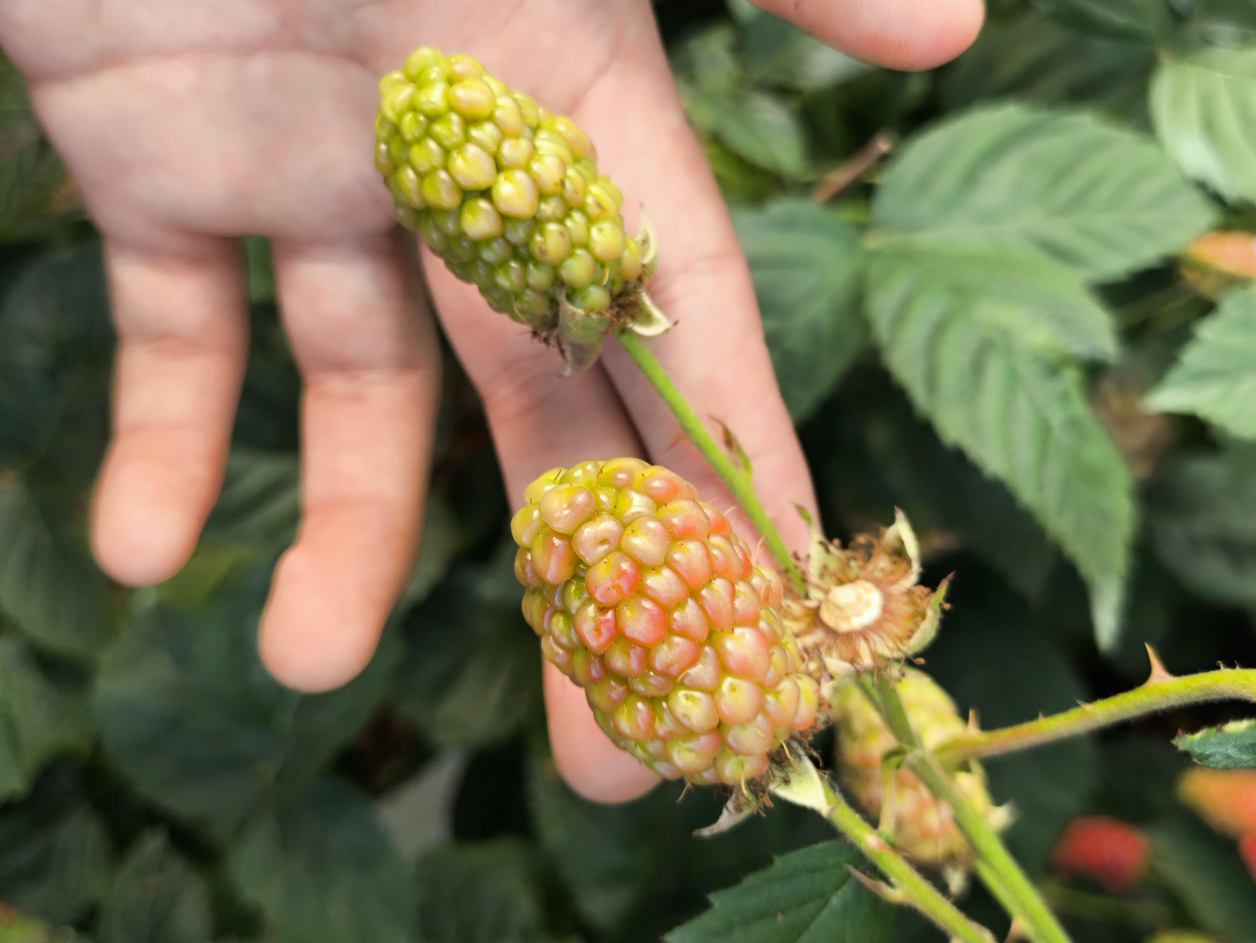verde: (513, 458, 819, 787), (373, 47, 658, 375)
